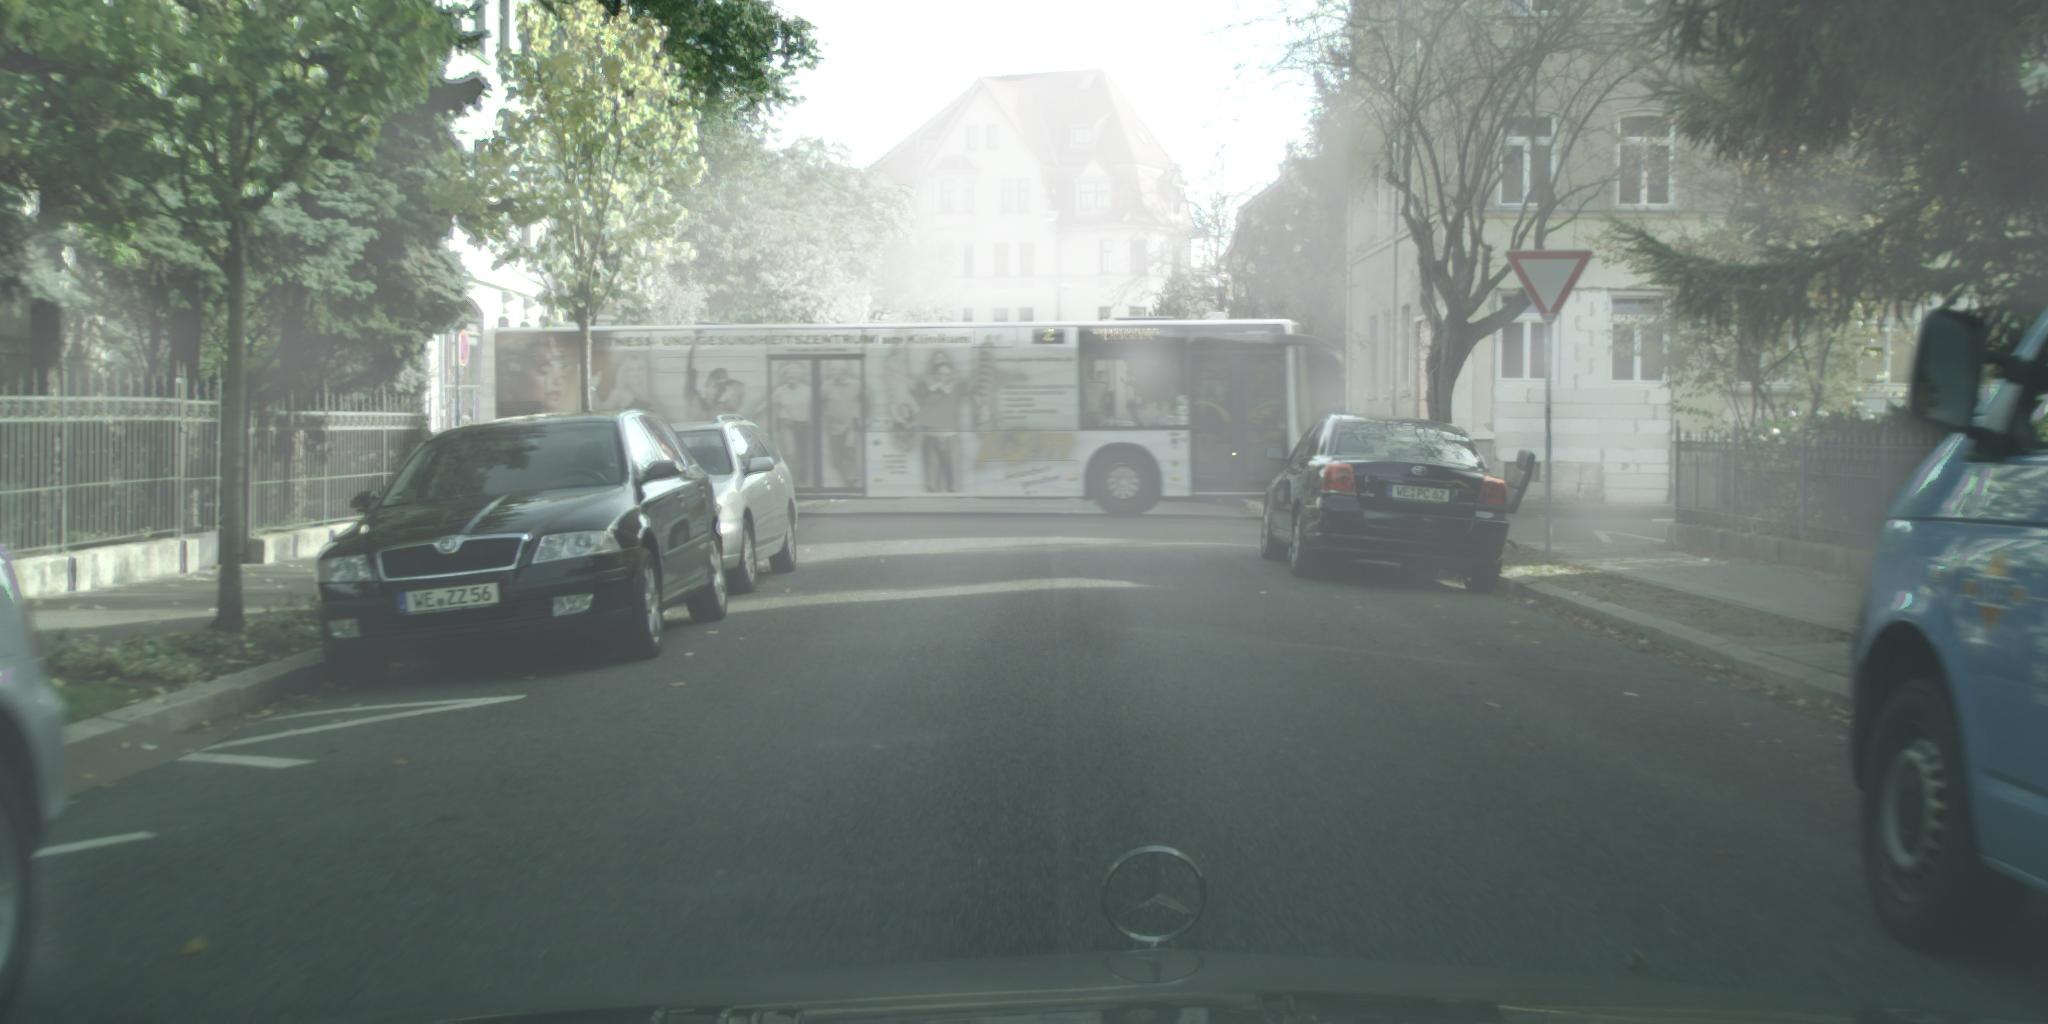bus: (494, 321, 1347, 519)
car: (1849, 293, 2048, 956), (316, 409, 729, 692), (1259, 415, 1511, 600), (1, 554, 69, 1023), (656, 414, 799, 597)
